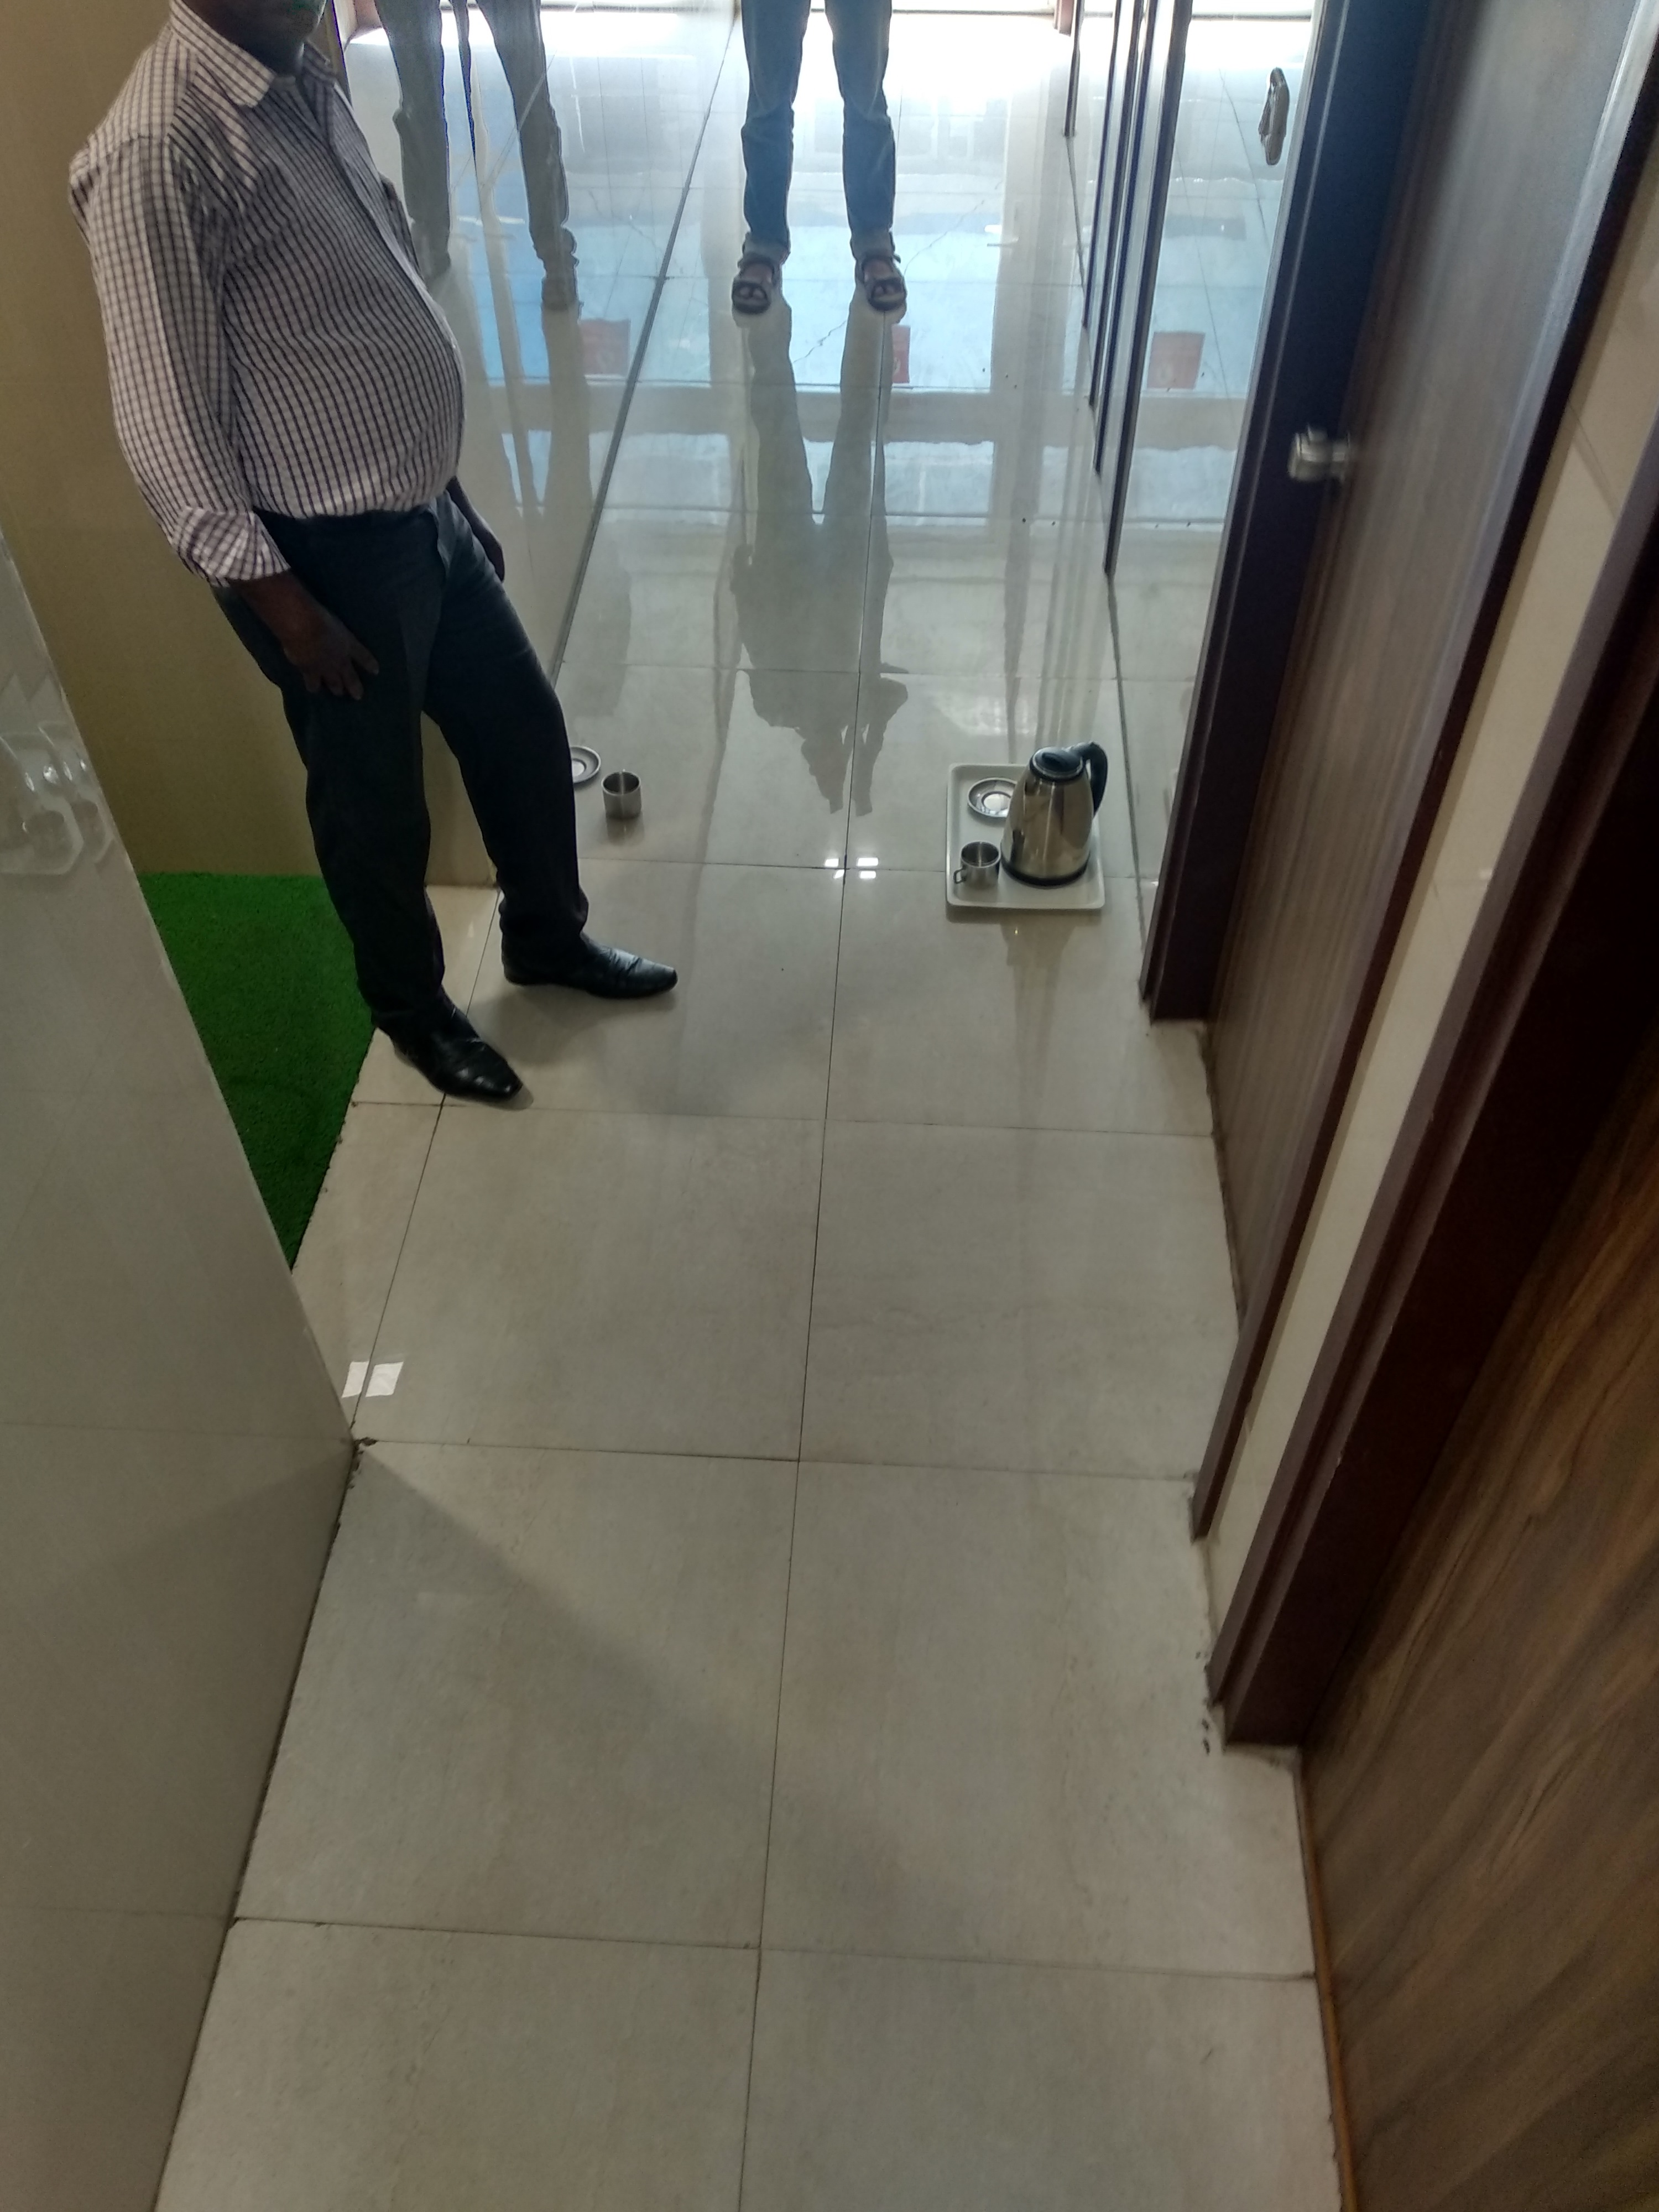CUP: (951, 843, 1007, 890), (608, 768, 647, 824)
FLASK: (1009, 738, 1115, 890)
